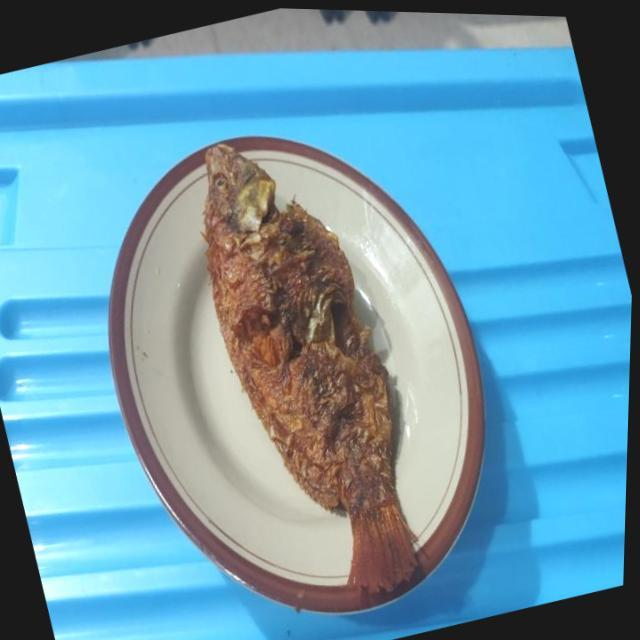ikan_mujair: (203, 142, 416, 595)
